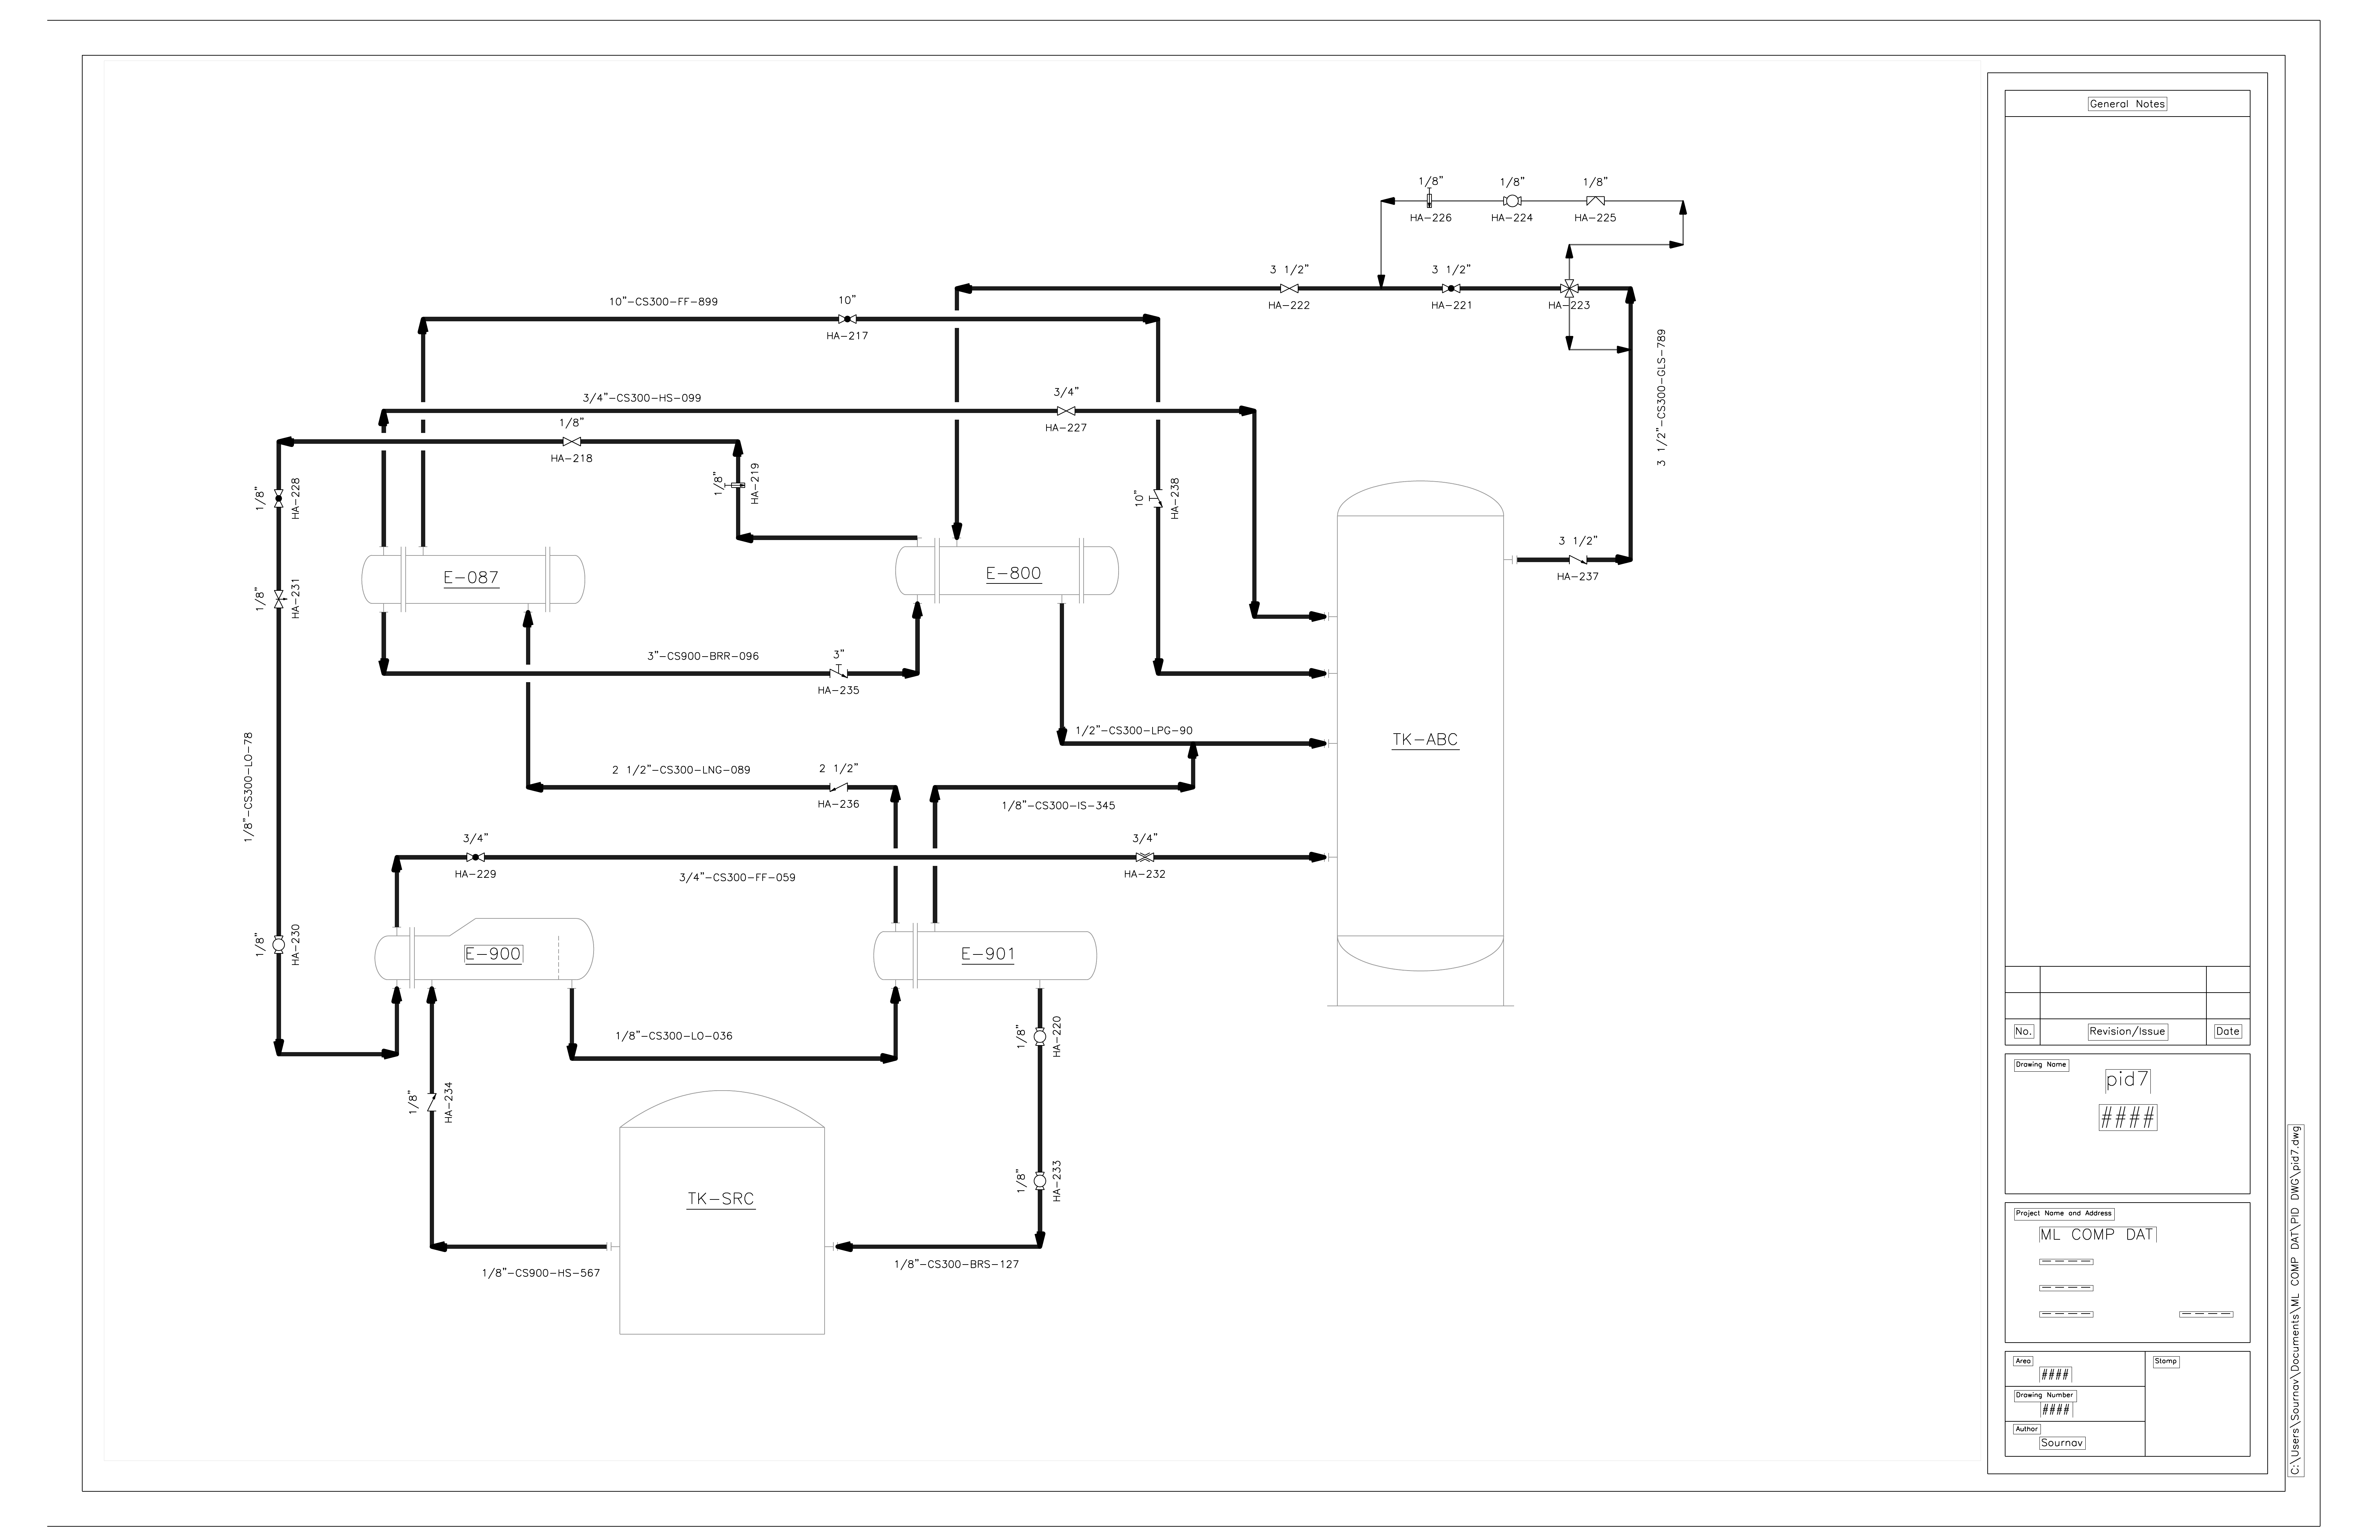BEM-TEMA Exchanger: (873, 921, 1098, 990)
BKU-TEMA Exchanger: (373, 917, 595, 990)
Ball Valve: (272, 935, 286, 956), (1032, 1171, 1046, 1191), (1032, 1027, 1046, 1047)
Check Valve: (425, 1091, 439, 1113)
Dome Roofed Tank: (609, 1089, 834, 1337)
Globe Valve: (272, 487, 284, 510)
Needle Valve: (272, 590, 288, 610)
Other: (482, 1266, 600, 1280), (241, 732, 255, 843), (895, 1259, 1020, 1271), (616, 1030, 734, 1042), (1015, 1025, 1029, 1049)
Pipe Diameter: (253, 486, 267, 512), (253, 586, 267, 612), (406, 1089, 420, 1115), (253, 933, 267, 957), (1015, 1169, 1029, 1193)
Tag: (687, 1191, 756, 1210), (961, 945, 1015, 964), (442, 1080, 454, 1124), (290, 577, 302, 619), (290, 477, 300, 520), (290, 923, 300, 966), (1051, 1160, 1062, 1204), (1051, 1015, 1062, 1058)
